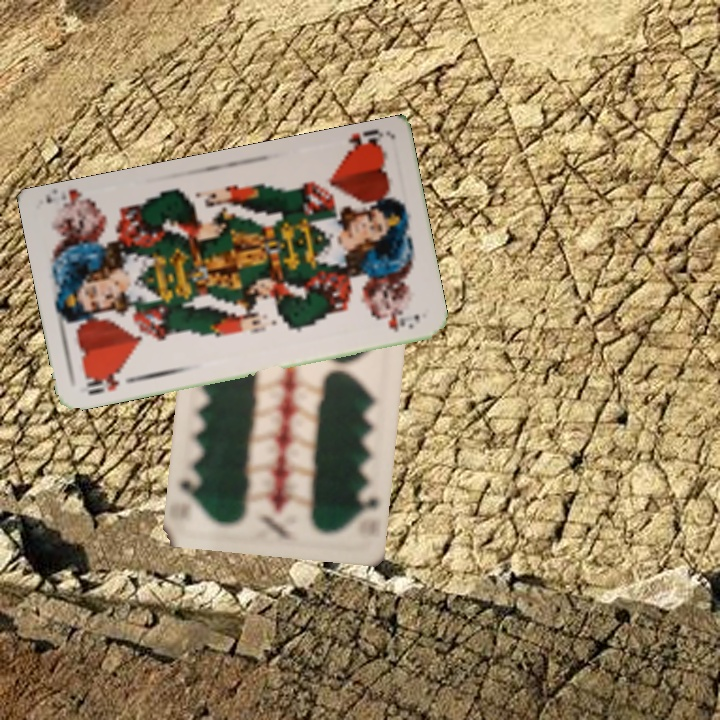G10: (355, 482, 383, 522)
HO: (340, 126, 386, 160), (82, 366, 123, 397)
